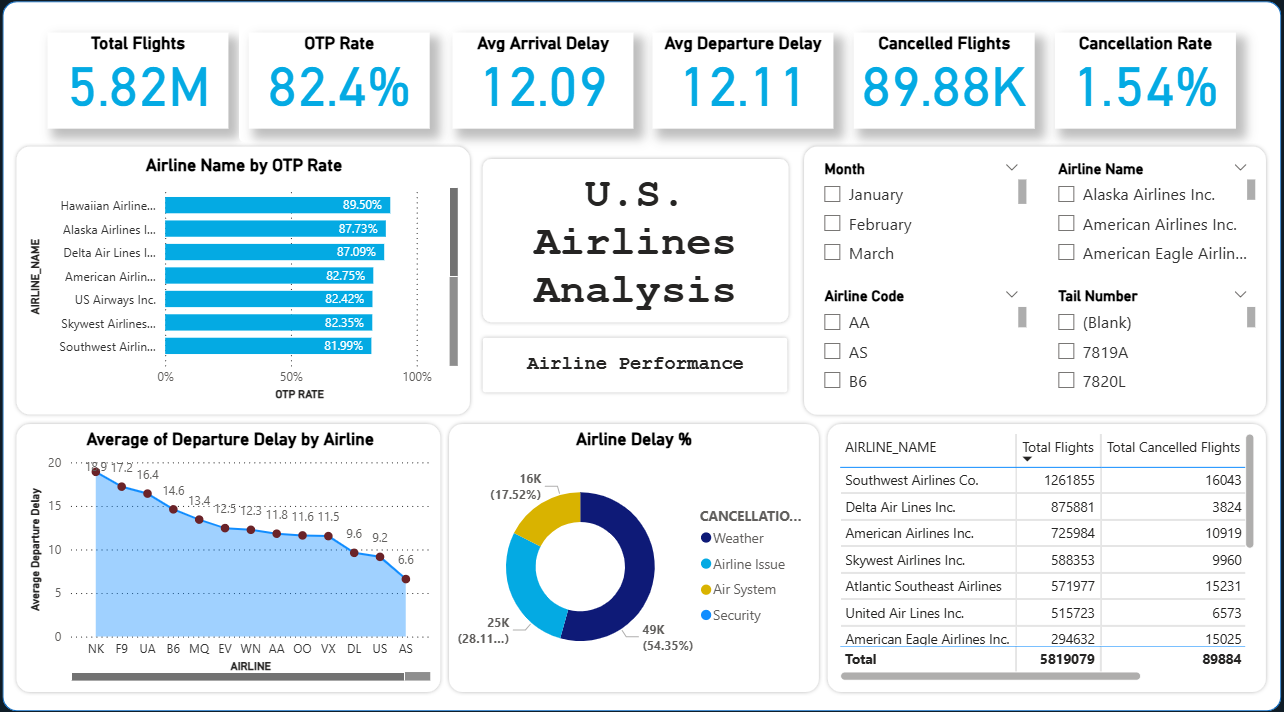

What the dashboard file says about the page in this screenshot:
{"tool":"powerbi","page":{"name":"Airline Performance","canvas":[1280,720],"ordinal":1},"visuals":[{"type":"shape","box":[12.3,11,1255.2,696.9],"z":0},{"type":"shape","box":[818,422,438,271],"z":1000},{"type":"shape","box":[22,422,424,271],"z":2000},{"type":"shape","box":[47,28,197.5,121.5],"z":3000},{"type":"card","title":"Total Flights","fields":{"Values":["CountNonNull(project flights.FLIGHT_NUMBER)"]},"box":[56.4,41.7,177.9,94.5],"z":4000},{"type":"shape","box":[442.9,29.4,197.5,121.5],"z":5000},{"type":"shape","box":[640.5,29.4,197.5,121.5],"z":6000},{"type":"shape","box":[1035.6,29.4,197.5,121.5],"z":7000},{"type":"shape","box":[838,29.4,197.5,121.5],"z":8000},{"type":"shape","box":[479.8,162,308,168.1],"z":9000},{"type":"shape","box":[244.2,28.2,197.5,121.5],"z":10000},{"type":"shape","box":[447,422,371,271],"z":11000},{"type":"card","title":"OTP Rate","fields":{"Values":["project flights.OTP RATE"]},"box":[254,41.7,177.9,94.5],"z":12000},{"type":"card","title":"Avg Arrival Delay","fields":{"Values":["Avg(project flights.ARRIVAL_DELAY)"]},"box":[454,41.7,177.9,94.5],"z":13000},{"type":"card","title":"Avg Departure Delay","fields":{"Values":["Avg(project flights.DEPARTURE_DELAY)"]},"box":[650.3,41.7,177.9,94.5],"z":14000},{"type":"card","title":"Cancelled Flights","fields":{"Values":["CountNonNull(project flights.CANCELLED)"]},"box":[847.9,41.7,177.9,94.5],"z":15000},{"type":"card","title":"Cancellation Rate","fields":{"Values":["project flights.CANCELLATION RATE"]},"box":[1045.4,41.7,177.9,94.5],"z":16000},{"type":"donutChart","title":"Airline Delay %","fields":{"Y":["project flights_analysis.Cancelled Flights"],"Category":["project flights_analysis.CANCELLATION_REASON"]},"box":[458,431,349,252],"z":17000},{"type":"areaChart","title":"Average of Departure Delay by Airline","fields":{"Category":["project flights.AIRLINE"],"Y":["Avg(project flights.DEPARTURE_DELAY)"]},"box":[34,431,403,252],"z":18000},{"type":"tableEx","fields":{"Values":["project flights_analysis.AIRLINE_NAME","CountNonNull(project flights_analysis.FLIGHT_NUMBER)","project flights_analysis.Cancelled Flights","CountNonNull(project flights_analysis.DIVERTED)"]},"box":[828,431,418,252],"z":19000},{"type":"shape","box":[22,150,453,271],"z":20000},{"type":"clusteredBarChart","title":"Airline Name by OTP Rate","fields":{"Category":["project flights_analysis.AIRLINE_NAME"],"Y":["project flights.OTP RATE"]},"box":[34,162,430,246],"z":21000},{"type":"shape","title":"Fly Emirates Flight Performance Overview","box":[479.8,337.4,306.8,61.4],"z":22000},{"type":"shape","box":[795.1,149.7,461.4,271.2],"z":23000},{"type":"slicer","fields":{"Values":["project flights_analysis.FLIGHT_DATE.Variation.Date Hierarchy.Month"]},"box":[806.1,162,216,120.2],"z":24000},{"type":"slicer","fields":{"Values":["project flights_analysis.AIRLINE_NAME"]},"box":[1035.6,162,211,120.2],"z":25000},{"type":"slicer","fields":{"Values":["project flights_analysis.AIRLINE_CODE"]},"box":[806.1,287.1,216,120.2],"z":26000},{"type":"slicer","fields":{"Values":["project flights_analysis.TAIL_NUMBER"]},"box":[1035.6,287.1,211,120.2],"z":27000},{"type":"card","title":"Airline Performance","fields":{"Values":["project flights_analysis.Cancelled Flights"]},"box":[483.4,357.1,300.6,22.1],"z":28000},{"type":"card","title":"U.S. Airlines Analysis","fields":{"Values":["project flights_analysis.Cancelled Flights"]},"box":[483.4,177.9,300.6,152.1],"z":29000}]}

Visuals, with their boxes in screenshot pixels (x1, y1, x2, y2), scaled from the page's 1280x720 canvas onto the 1284x712 screenshot:
shape: 12,11,1271,700
shape: 821,417,1260,685
shape: 22,417,447,685
shape: 47,28,245,148
"Total Flights" card: 57,41,235,135
shape: 444,29,642,149
shape: 643,29,841,149
shape: 1039,29,1237,149
shape: 841,29,1039,149
shape: 481,160,790,326
shape: 245,28,443,148
shape: 448,417,821,685
"OTP Rate" card: 255,41,433,135
"Avg Arrival Delay" card: 455,41,634,135
"Avg Departure Delay" card: 652,41,831,135
"Cancelled Flights" card: 851,41,1029,135
"Cancellation Rate" card: 1049,41,1227,135
"Airline Delay %" donutChart: 459,426,810,675
"Average of Departure Delay by Airline" areaChart: 34,426,438,675
tableEx - project flights_analysis.AIRLINE_NAME x CountNonNull(project flights_analysis.FLIGHT_NUMBER): 831,426,1250,675
shape: 22,148,476,416
"Airline Name by OTP Rate" clusteredBarChart: 34,160,465,403
"Fly Emirates Flight Performance Overview" shape: 481,334,789,394
shape: 798,148,1260,416
slicer - project flights_analysis.FLIGHT_DATE.Variation.Date Hierarchy.Month: 809,160,1025,279
slicer - project flights_analysis.AIRLINE_NAME: 1039,160,1250,279
slicer - project flights_analysis.AIRLINE_CODE: 809,284,1025,403
slicer - project flights_analysis.TAIL_NUMBER: 1039,284,1250,403
"Airline Performance" card: 485,353,786,375
"U.S. Airlines Analysis" card: 485,176,786,326
